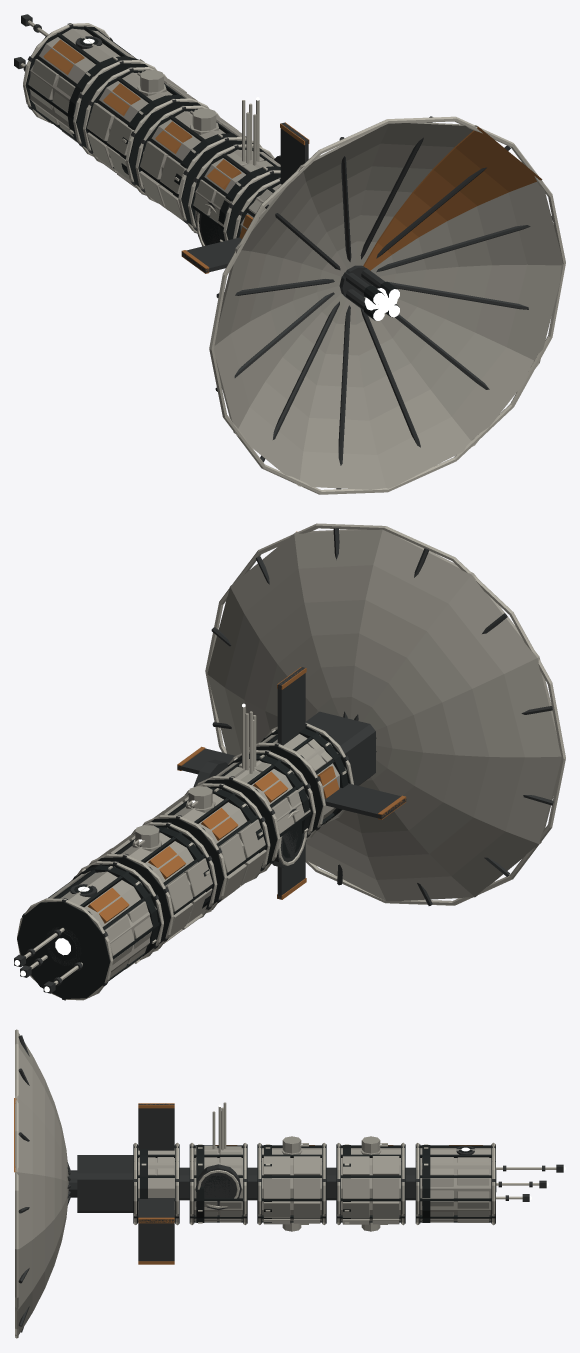
3 renders of one model, top to bottom at view 1: azimuth 30°, elevation 25°; view 2: azimuth 150°, elevation 25°; view 3: azimuth 270°, elevation 25°, orthographic. The views are drawn at different scales.
Visible parts, largest first — view 1: RIMWARD_HULL; view 2: RIMWARD_HULL; view 3: RIMWARD_HULL.
Part boxes in pixels (left/top/right/bottom): RIMWARD_HULL: left=14, top=14, right=565, bottom=494; RIMWARD_HULL: left=14, top=523, right=565, bottom=1000; RIMWARD_HULL: left=14, top=1029, right=563, bottom=1338.
Bounding box in the file's own units: 9.32 × 9.32 × 16.62.
